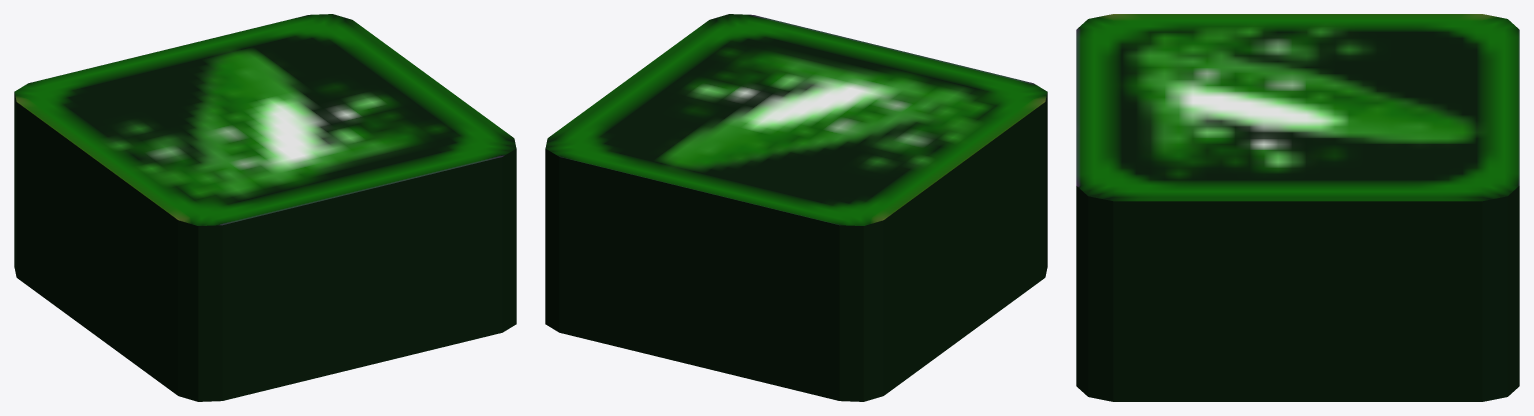
File: icon_ufo_crashed.obj
3 views of the same model, side by side, from view 1: azimuth 30°, elevation 25°; view 2: azimuth 150°, elevation 25°; view 3: azimuth 270°, elevation 25° (orthographic). The views are drawn at different scales.
Parts seen in each view (by area): view 1: Icon-UFOCrashed.001_Plane.023; view 2: Icon-UFOCrashed.001_Plane.023; view 3: Icon-UFOCrashed.001_Plane.023.
Part boxes in pixels (x1,y1,x2,y2): Icon-UFOCrashed.001_Plane.023: (14,14,516,401); Icon-UFOCrashed.001_Plane.023: (545,14,1047,401); Icon-UFOCrashed.001_Plane.023: (1076,14,1519,401).
Size of the model in its own units: 2 by 1 by 2.
Materials: 2 (2 with a texture image).
